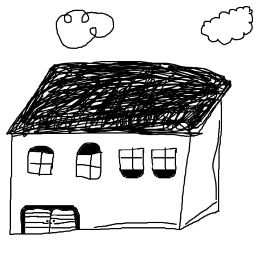closed_window: (72, 135, 110, 187), (20, 143, 60, 182), (115, 139, 149, 182), (148, 143, 181, 185)
clouds: (50, 5, 126, 55), (191, 0, 260, 48)
door: (14, 197, 84, 243)
shaded_roof: (3, 53, 235, 138)
wall: (2, 128, 196, 238)
